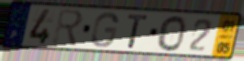2: (187, 18, 213, 53)
4: (27, 8, 51, 46)
G: (89, 11, 119, 49)
O: (156, 15, 187, 53)
R: (51, 8, 84, 49)
T: (126, 13, 151, 50)
